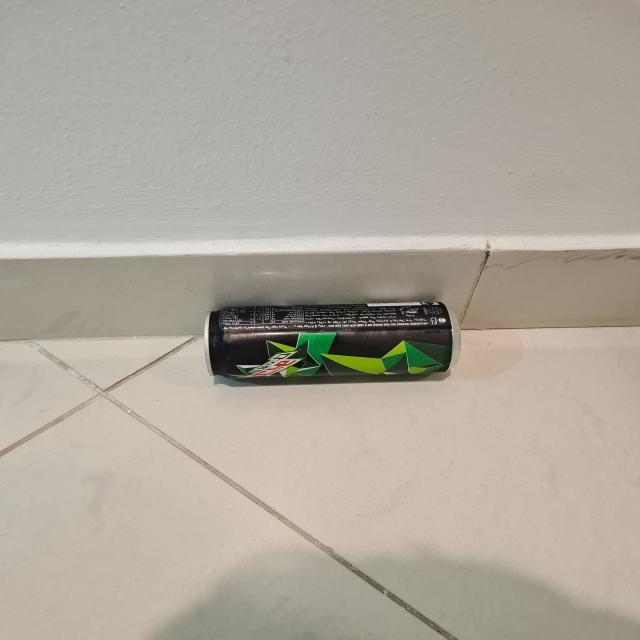Kaleng: (205, 299, 459, 381)
